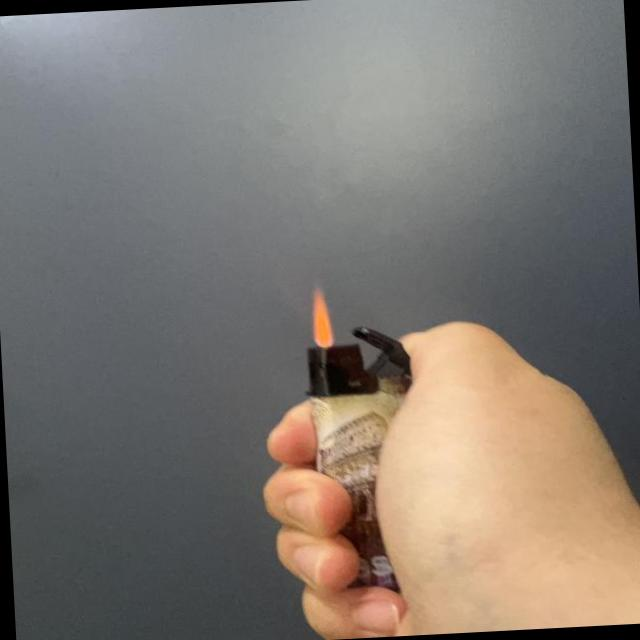Fire: (306, 280, 336, 350)
